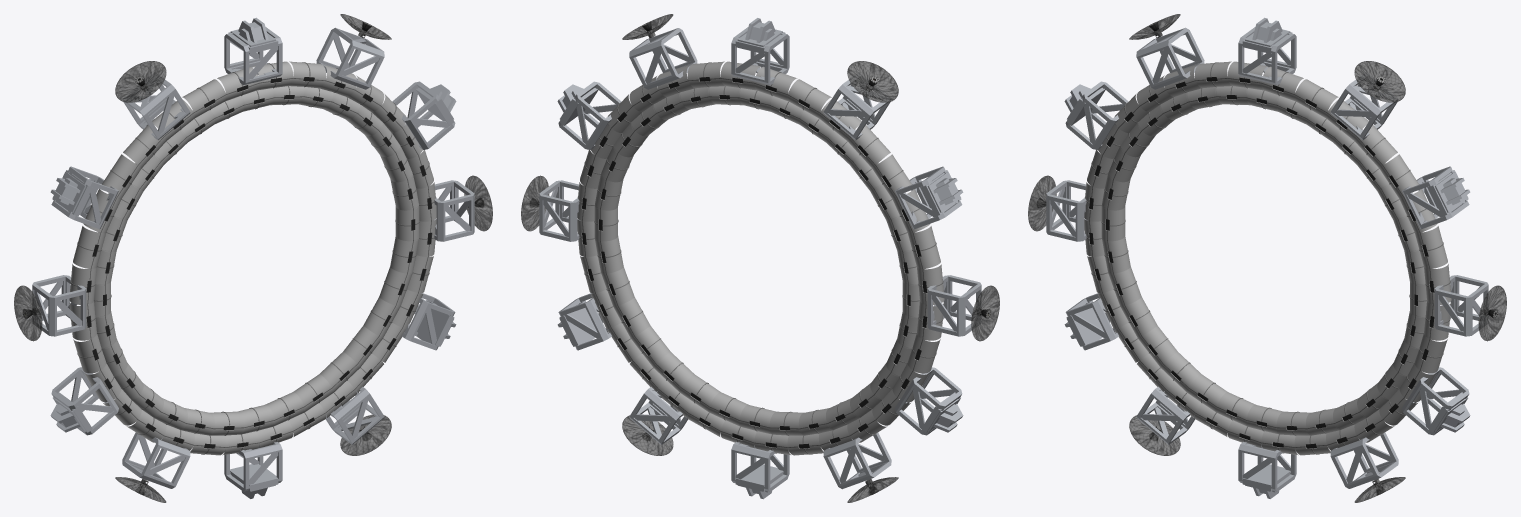
The model's file is hypergate.glb.
The picture shows the model from 3 angles, left to right: view 1: azimuth 30°, elevation 25°; view 2: azimuth 150°, elevation 25°; view 3: azimuth 330°, elevation 25°; orthographic projection.
Visible parts, largest first — view 1: k_frame.75, k_frame.73, k_frame.71, k_frame.77, k_frame.68, k_frame.72, k_frame.76, k_frame.79, k_frame.70, n_umbrella.85, k_frame.78, k_frame.74 (+76 smaller); view 2: k_frame.75, k_frame.73, k_frame.71, k_frame.77, k_frame.68, k_frame.76, k_frame.72, k_frame.79, k_frame.70, n_umbrella.85, k_frame.78, k_frame.74 (+76 smaller); view 3: k_frame.68, k_frame.71, k_frame.73, k_frame.79, k_frame.75, k_frame.80, k_frame.72, k_frame.77, k_frame.74, n_umbrella.84, k_frame.78, k_frame.70 (+76 smaller).
Boxes of the visible parts, left/top/right/bottom form: k_frame.75: left=32, top=275, right=86, bottom=336; k_frame.73: left=123, top=72, right=190, bottom=140; k_frame.71: left=316, top=27, right=384, bottom=89; k_frame.77: left=122, top=432, right=190, bottom=488; k_frame.68: left=430, top=180, right=474, bottom=241; k_frame.72: left=224, top=27, right=282, bottom=85; k_frame.76: left=51, top=367, right=118, bottom=435; k_frame.79: left=325, top=386, right=384, bottom=444; k_frame.70: left=392, top=81, right=455, bottom=149; n_umbrella.85: left=115, top=61, right=166, bottom=102; k_frame.78: left=224, top=442, right=282, bottom=491; k_frame.74: left=51, top=166, right=118, bottom=229; k_frame.75: left=927, top=275, right=981, bottom=336; k_frame.73: left=823, top=72, right=890, bottom=140; k_frame.71: left=629, top=28, right=697, bottom=89; k_frame.77: left=823, top=432, right=891, bottom=489; k_frame.68: left=539, top=180, right=580, bottom=241; k_frame.76: left=895, top=367, right=962, bottom=435; k_frame.72: left=731, top=27, right=789, bottom=85; k_frame.79: left=629, top=387, right=688, bottom=444; k_frame.70: left=558, top=81, right=621, bottom=149; n_umbrella.85: left=847, top=61, right=898, bottom=102; k_frame.78: left=731, top=442, right=789, bottom=491; k_frame.74: left=895, top=166, right=962, bottom=229; k_frame.68: left=1434, top=275, right=1488, bottom=336; k_frame.71: left=1330, top=72, right=1397, bottom=140; k_frame.73: left=1136, top=27, right=1204, bottom=89; k_frame.79: left=1330, top=432, right=1398, bottom=488; k_frame.75: left=1046, top=180, right=1090, bottom=241; k_frame.80: left=1402, top=367, right=1469, bottom=435; k_frame.72: left=1238, top=27, right=1296, bottom=85; k_frame.77: left=1136, top=386, right=1195, bottom=444; k_frame.74: left=1065, top=81, right=1128, bottom=149; n_umbrella.84: left=1354, top=61, right=1405, bottom=102; k_frame.78: left=1238, top=442, right=1296, bottom=491; k_frame.70: left=1402, top=166, right=1469, bottom=229.
Bounding box in the file's own units: 14.8 × 14.63 × 1.6.
4 materials, 3 textured.
